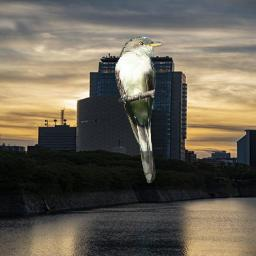Cuckoo: (115, 36, 163, 184)
